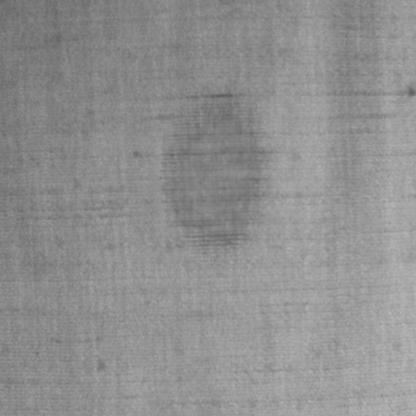oil spot: (160, 84, 266, 258)
